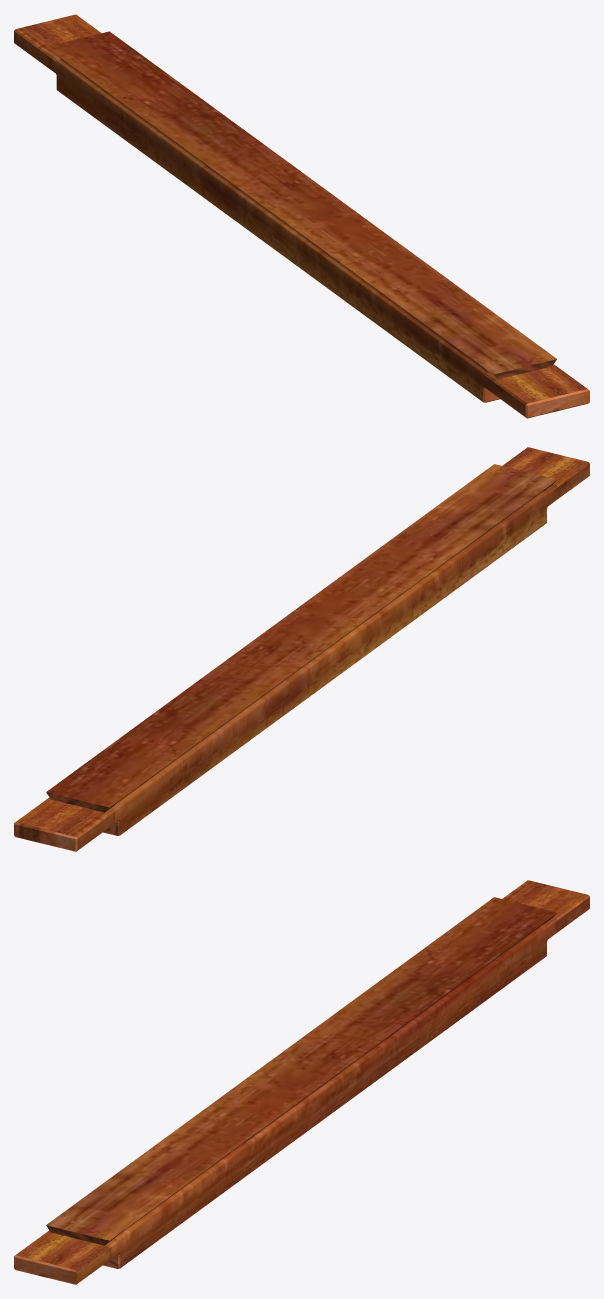
Rendered from SJ_J_dgcd_07.FBX.
3 renders of one model, top to bottom at view 1: azimuth 30°, elevation 25°; view 2: azimuth 150°, elevation 25°; view 3: azimuth 330°, elevation 25°, orthographic.
Visible parts, largest first — view 1: SJ_J_dgcd_07; view 2: SJ_J_dgcd_07; view 3: SJ_J_dgcd_07.
Boxes of the visible parts, x1,y1,x2,y2 form: SJ_J_dgcd_07: (14, 14, 589, 418); SJ_J_dgcd_07: (14, 447, 589, 851); SJ_J_dgcd_07: (14, 880, 589, 1284).
Bounding box in the file's own units: 3 × 1.67 × 42.01.
